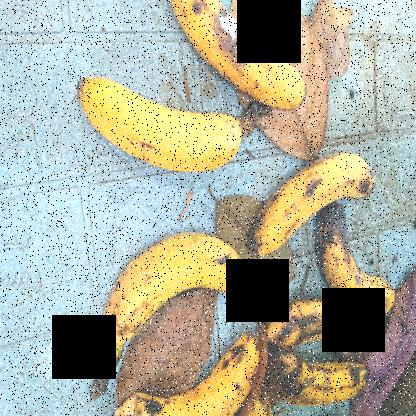freshripe: (60, 70, 254, 179)
ripe: (89, 217, 258, 346), (150, 1, 311, 105), (248, 146, 387, 264), (115, 324, 271, 415)
rotten: (318, 206, 400, 316), (260, 298, 374, 356), (261, 355, 373, 403), (201, 1, 263, 66)
